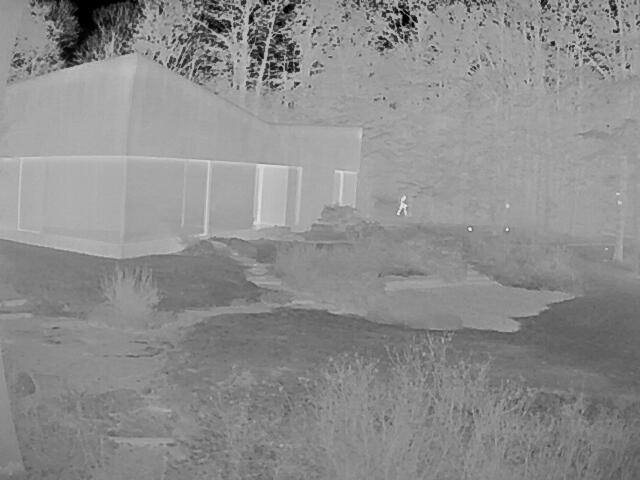person: (397, 193, 405, 214)
